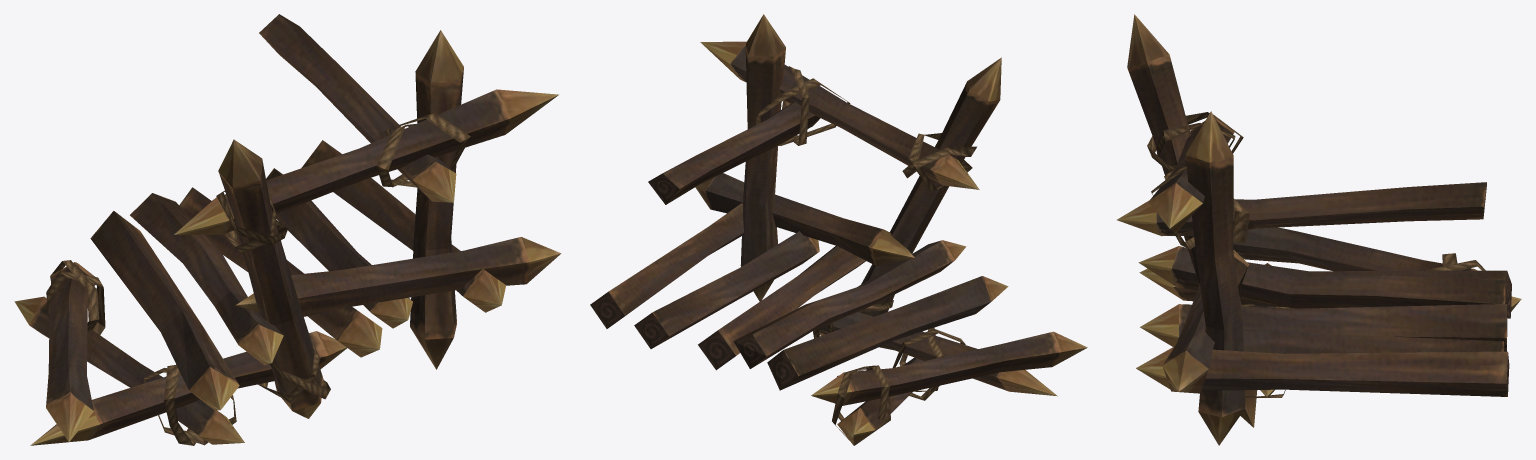
The model's file is lava_scaffolding_02.fbx.
3 views of the same model, side by side, from view 1: azimuth 30°, elevation 25°; view 2: azimuth 150°, elevation 25°; view 3: azimuth 270°, elevation 25° (orthographic). The views are drawn at different scales.
Parts seen in each view (by area): view 1: obj0.040; view 2: obj0.040; view 3: obj0.040.
Part boxes in pixels (left/top/right/bottom): obj0.040: left=14, top=14, right=561, bottom=445; obj0.040: left=590, top=14, right=1087, bottom=445; obj0.040: left=1117, top=14, right=1521, bottom=445.
Bounding box in the file's own units: 2.79 × 2.11 × 2.07.
